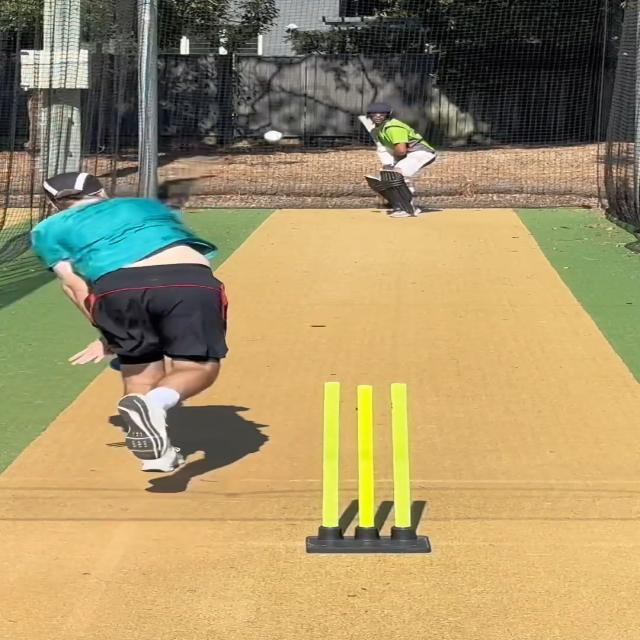Cricket ball: (262, 128, 285, 144)
